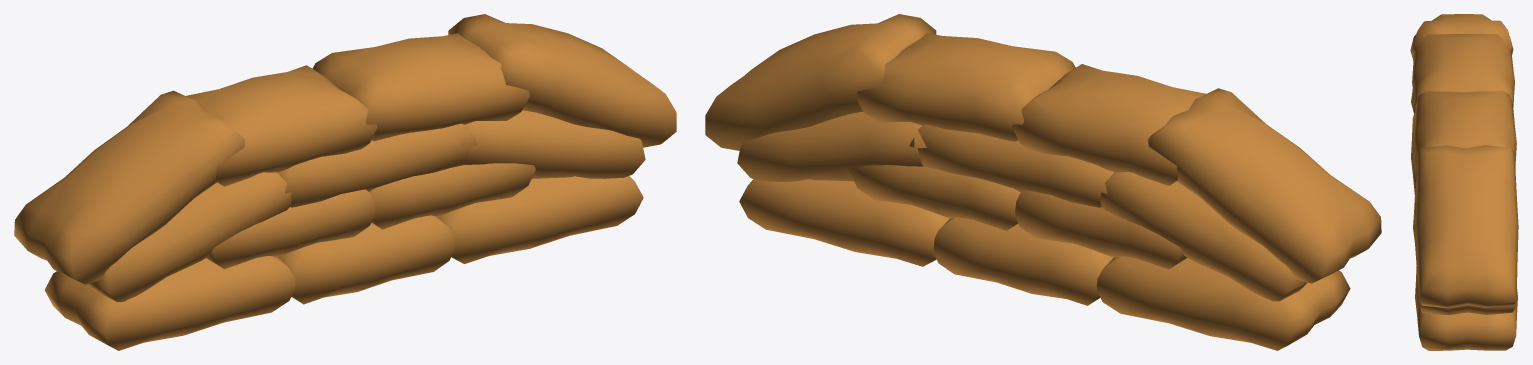
The model's file is sandbag_straight_small.FBX.
The picture shows the model from 3 angles, left to right: view 1: azimuth 30°, elevation 25°; view 2: azimuth 150°, elevation 25°; view 3: azimuth 270°, elevation 25°; orthographic projection. The views are drawn at different scales.
Parts seen in each view (by area): view 1: sandbag_straight_small; view 2: sandbag_straight_small; view 3: sandbag_straight_small.
Part boxes in pixels (x1=…): sandbag_straight_small: x1=14, y1=14, x2=676, y2=350; sandbag_straight_small: x1=705, y1=14, x2=1381, y2=350; sandbag_straight_small: x1=1410, y1=14, x2=1518, y2=350.
Size of the model in its own units: 143 by 26.42 by 48.18.
